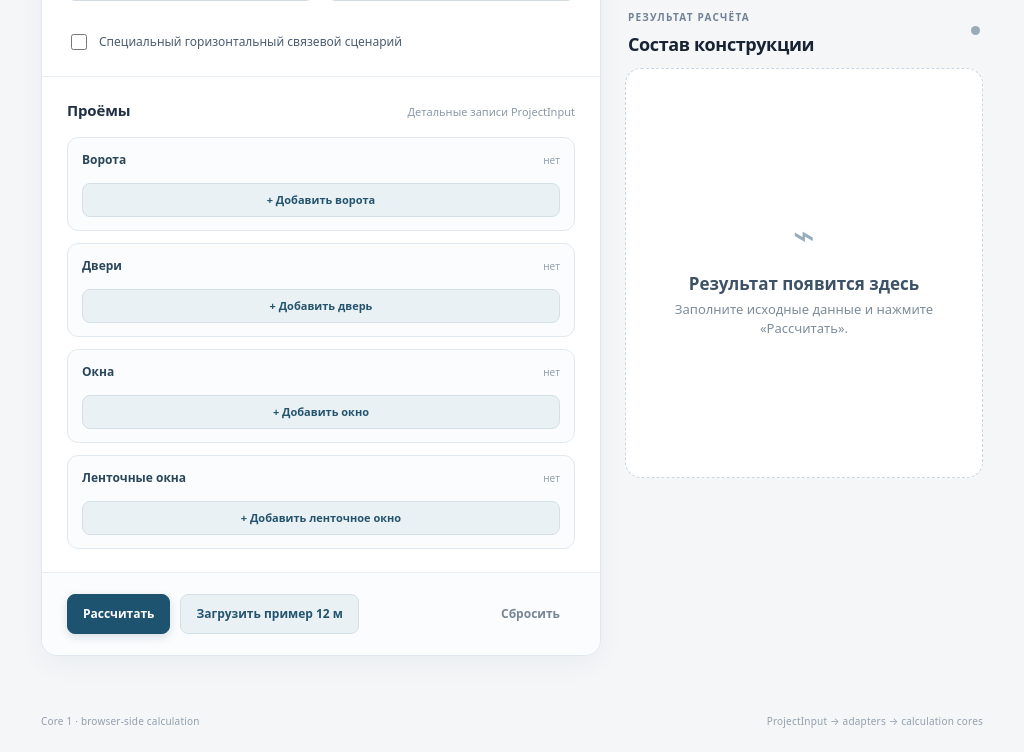
Test case: Sprint M calculator UI › renders typed legacy diagnostic instead of fake output
(page scrolled)
Click the button "Рассчитать" at (119, 614), box [67,594,170,634]
(page scrolled)
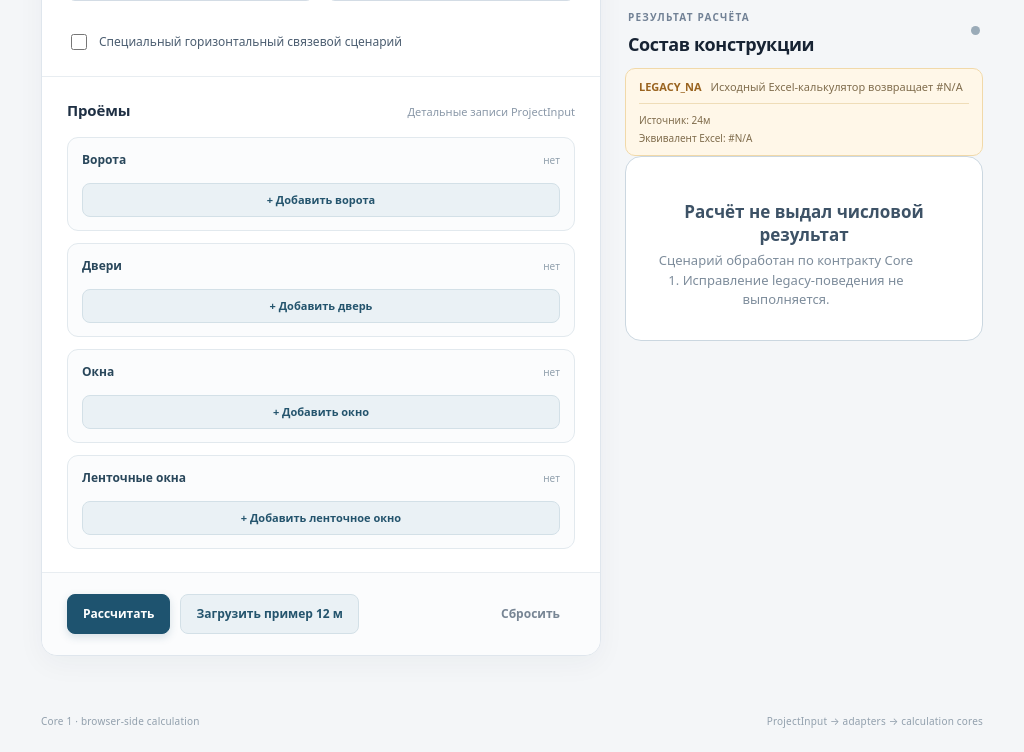
Now the text "LEGACY_NA" is shown, box [639,79,702,94]
Now the heading "Расчёт не выдал числовой результат" is shown, box [684,200,924,246]
